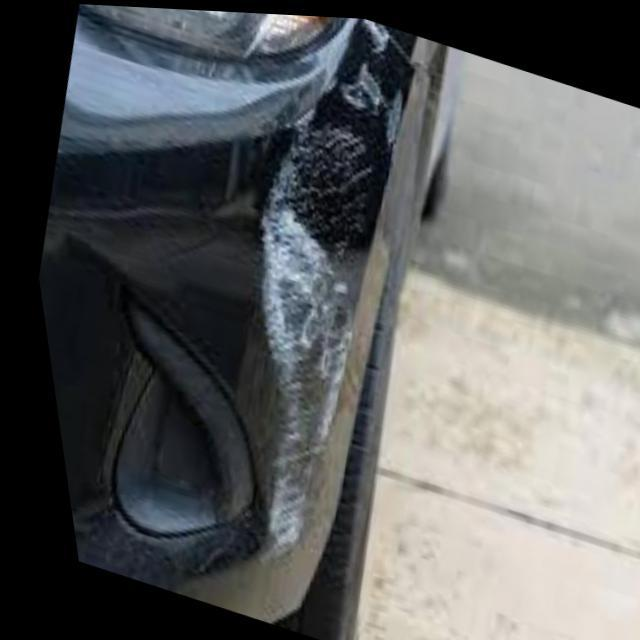rub: (249, 16, 410, 545)
